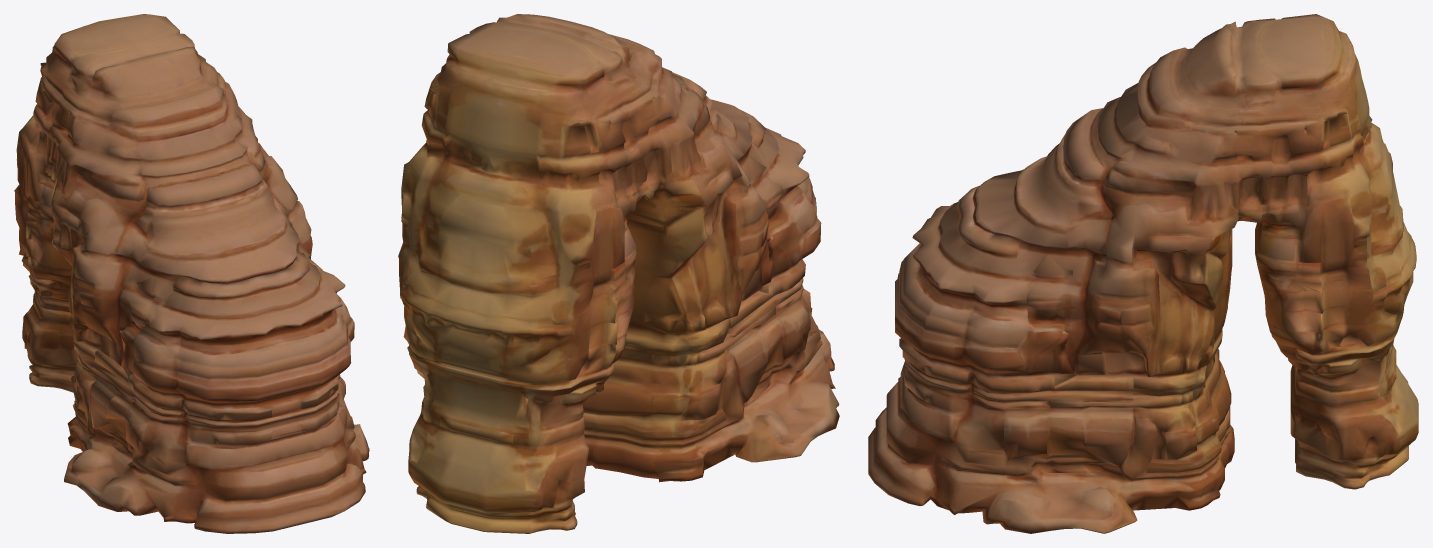
The model's file is AlFil.fbx.
3 renders of one model, left to right at view 1: azimuth 30°, elevation 25°; view 2: azimuth 150°, elevation 25°; view 3: azimuth 270°, elevation 25°, orthographic. The views are drawn at different scales.
Visible parts, largest first — view 1: tripo_node_7de3a04a; view 2: tripo_node_7de3a04a; view 3: tripo_node_7de3a04a.
Part boxes in pixels (<box>): tripo_node_7de3a04a: <box>14,14,369,533</box>; tripo_node_7de3a04a: <box>398,14,839,533</box>; tripo_node_7de3a04a: <box>868,14,1418,533</box>.
Size of the model in its own units: 0.6708 by 0.8429 by 0.9993.
1 material, 1 textured.
